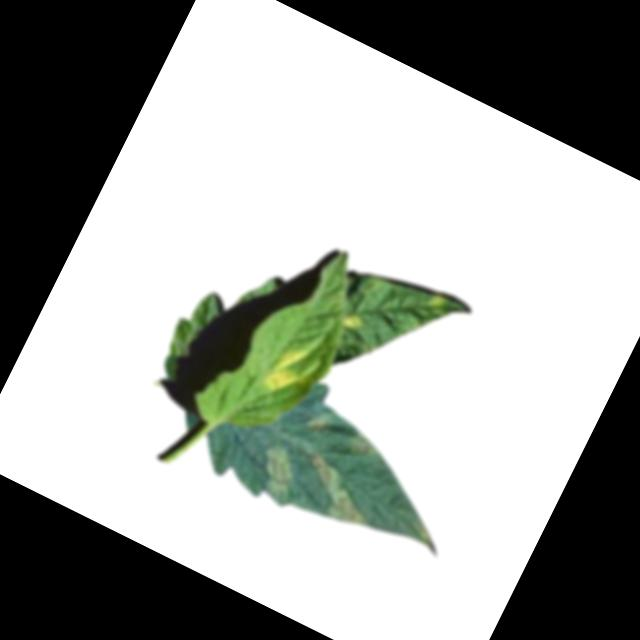Leaf_Mold: (289, 447, 390, 535), (248, 440, 304, 503), (259, 338, 308, 395), (344, 425, 386, 465), (302, 410, 329, 437), (338, 309, 365, 334)
